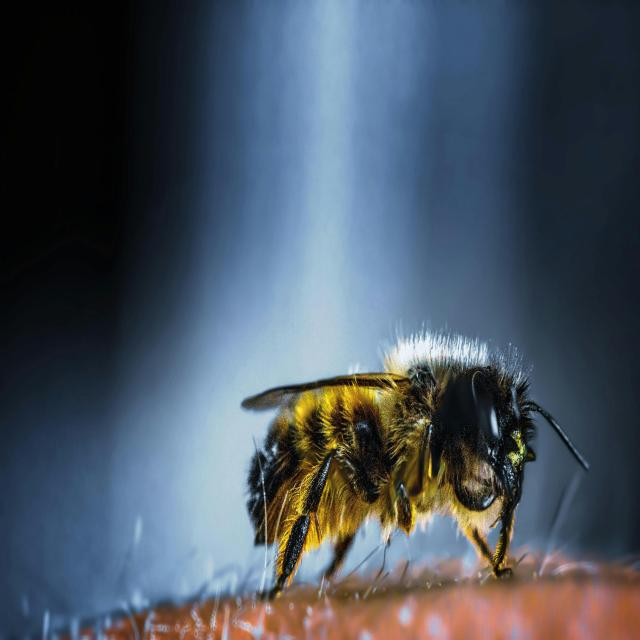bee: (240, 323, 590, 601)
